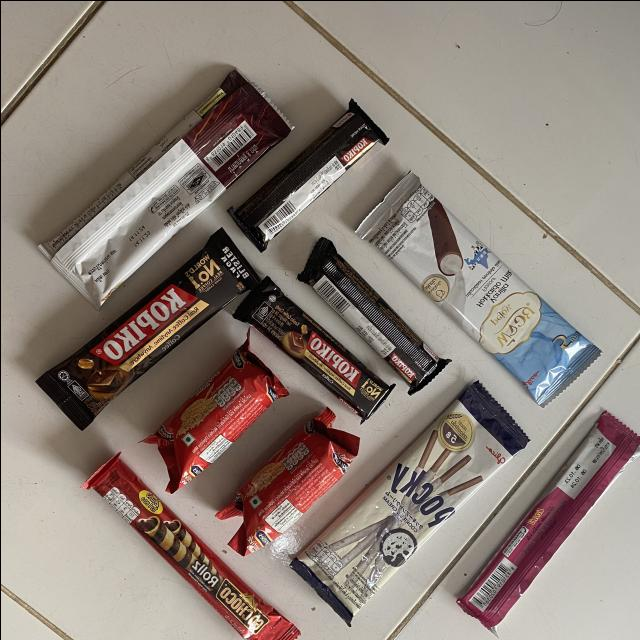plastik: (39, 69, 291, 306), (291, 381, 528, 623), (355, 171, 599, 404), (35, 229, 259, 428), (82, 453, 299, 640), (457, 411, 640, 630), (229, 98, 388, 249), (298, 237, 449, 394), (143, 332, 287, 491), (234, 277, 393, 420), (215, 408, 359, 554)
